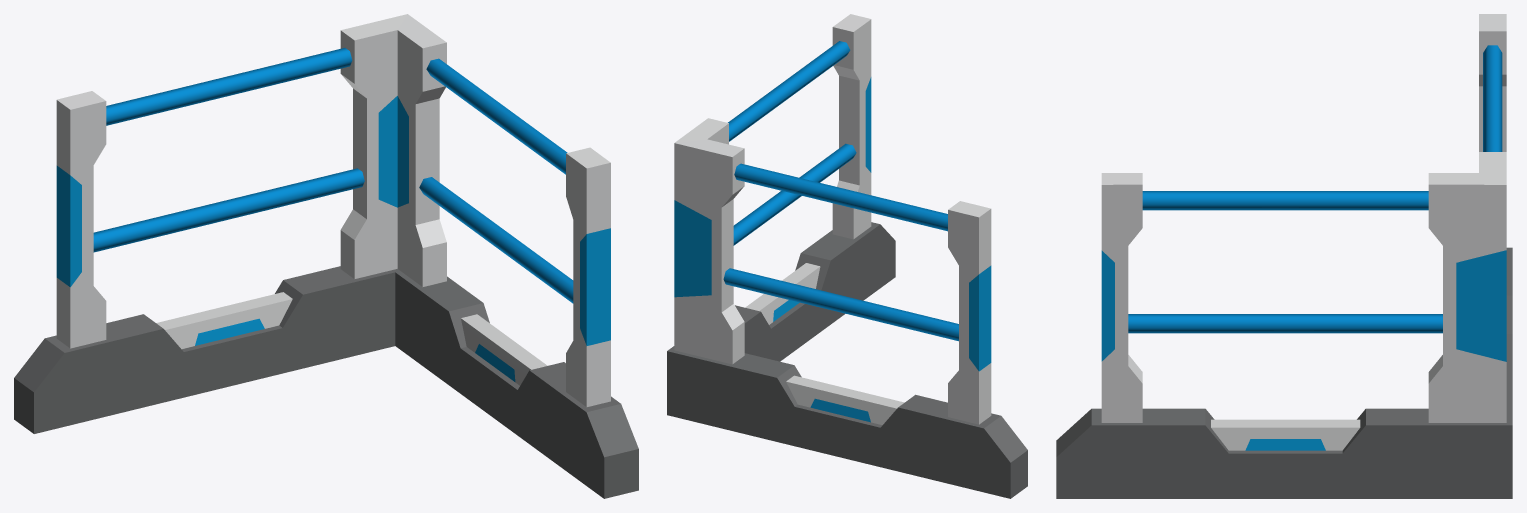
Rendered from Fence_type_A_008.fbx.
3 renders of one model, left to right at view 1: azimuth 30°, elevation 25°; view 2: azimuth 150°, elevation 25°; view 3: azimuth 270°, elevation 25°, orthographic. The views are drawn at different scales.
Parts seen in each view (by area): view 1: Fence_type_A_008; view 2: Fence_type_A_008; view 3: Fence_type_A_008.
Part boxes in pixels (<box>): Fence_type_A_008: <box>14,14,638,498</box>; Fence_type_A_008: <box>667,14,1027,498</box>; Fence_type_A_008: <box>1056,14,1512,498</box>.
Size of the model in its own units: 189 by 189 by 142.
